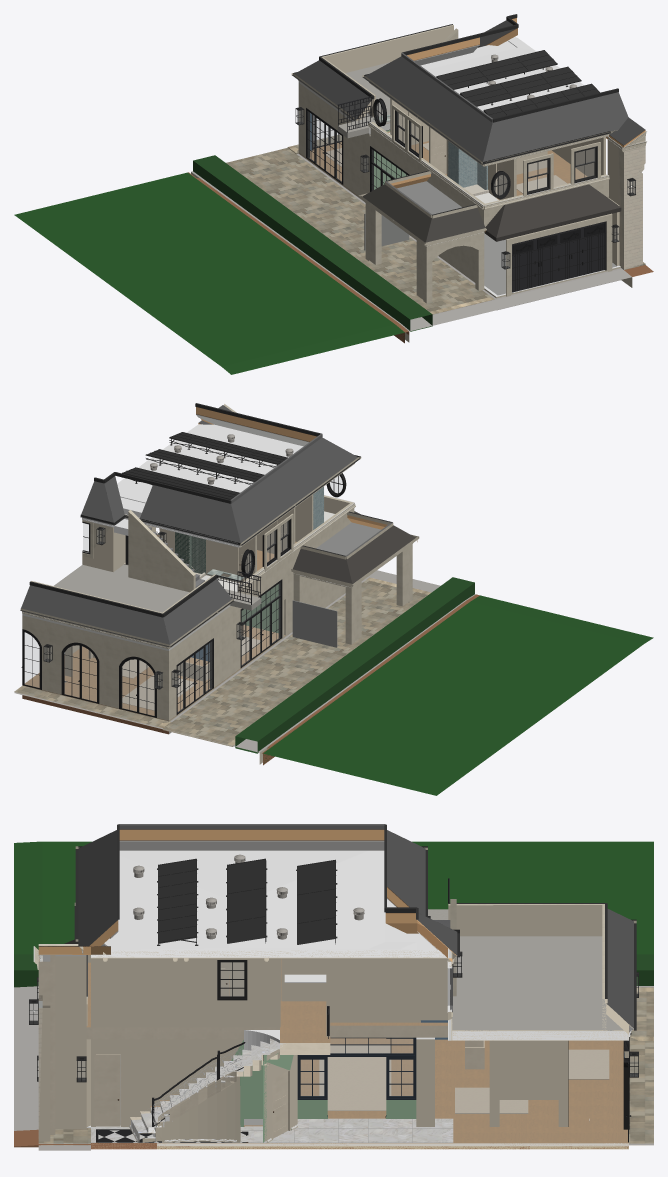
File: elevation-west-a539bdf70422.glb
3 views of the same model, one above another, from view 1: azimuth 30°, elevation 25°; view 2: azimuth 150°, elevation 25°; view 3: azimuth 270°, elevation 25° (orthographic). The views are drawn at different scales.
Visible parts, largest first — view 1: elevation-west-aee2d046b0172b1e, elevation-west-27d577fbd7f2ff4b, elevation-west-2d4e160723097ac3, elevation-west-25c3ff3929e46046, elevation-west-0cae3eb2f2d52fad, elevation-west-2f311b438f02a7c5, elevation-west-a9e726e5451ff895, elevation-west-8ae50a6395ceb8a4, elevation-west-039192b0560cfac3, elevation-west-32021a86c784f0e0, elevation-west-0b9d5d1cd0b2c60f, elevation-west-7cf8e5cfa8b264af (+29 smaller); view 2: elevation-west-aee2d046b0172b1e, elevation-west-27d577fbd7f2ff4b, elevation-west-2d4e160723097ac3, elevation-west-969b861f9850351e, elevation-west-0cae3eb2f2d52fad, elevation-west-d56ee2a9d54b1fc2, elevation-west-5febae1537653d02, elevation-west-039192b0560cfac3, elevation-west-ded88bd99590d377, elevation-west-7511cdbc362aca5e, elevation-west-3b0077416469e01b, elevation-west-08d72923bcfd3529 (+29 smaller); view 3: elevation-west-aee2d046b0172b1e, elevation-west-d56ee2a9d54b1fc2, elevation-west-ded88bd99590d377, elevation-west-3b0077416469e01b, elevation-west-746250f96522f643, elevation-west-85f0fd939e0fcc78, elevation-west-7f59123d155b94ce, elevation-west-5e296beffb47d853, elevation-west-ed40dd465e6d599f, elevation-west-2575515a05775d9e, elevation-west-18b8f93424e26a44, elevation-west-871e2e831c6190fa (+51 smaller).
Part boxes in pixels (x1,y1,x2,y2): elevation-west-aee2d046b0172b1e: (14,172,653,374); elevation-west-27d577fbd7f2ff4b: (226,148,494,314); elevation-west-2d4e160723097ac3: (193,155,432,331); elevation-west-25c3ff3929e46046: (483,92,628,161); elevation-west-0cae3eb2f2d52fad: (365,56,492,161); elevation-west-2f311b438f02a7c5: (512,221,606,292); elevation-west-a9e726e5451ff895: (496,184,621,241); elevation-west-8ae50a6395ceb8a4: (191,153,632,342); elevation-west-039192b0560cfac3: (298,83,370,195); elevation-west-32021a86c784f0e0: (322,25,453,72); elevation-west-0b9d5d1cd0b2c60f: (460,66,581,106); elevation-west-7cf8e5cfa8b264af: (436,50,557,89); elevation-west-aee2d046b0172b1e: (22,594,653,795); elevation-west-27d577fbd7f2ff4b: (163,577,431,746); elevation-west-2d4e160723097ac3: (235,577,474,753); elevation-west-969b861f9850351e: (22,616,165,719); elevation-west-0cae3eb2f2d52fad: (231,437,357,542); elevation-west-d56ee2a9d54b1fc2: (117,424,303,503); elevation-west-5febae1537653d02: (21,585,169,644); elevation-west-039192b0560cfac3: (166,606,240,720); elevation-west-ded88bd99590d377: (54,564,239,612); elevation-west-7511cdbc362aca5e: (128,510,195,592); elevation-west-3b0077416469e01b: (22,636,273,721); elevation-west-08d72923bcfd3529: (240,579,282,667); elevation-west-aee2d046b0172b1e: (14,841,653,1149); elevation-west-d56ee2a9d54b1fc2: (104,850,417,949); elevation-west-ded88bd99590d377: (452,936,623,1030); elevation-west-3b0077416469e01b: (157,1038,628,1143); elevation-west-746250f96522f643: (91,958,280,1027); elevation-west-85f0fd939e0fcc78: (91,1039,243,1126); elevation-west-7f59123d155b94ce: (330,958,420,1022); elevation-west-5e296beffb47d853: (55,955,86,1129); elevation-west-ed40dd465e6d599f: (489,1040,567,1126); elevation-west-2575515a05775d9e: (86,958,330,1054); elevation-west-18b8f93424e26a44: (448,904,604,936); elevation-west-871e2e831c6190fa: (319,1045,391,1110).
Size of the model in its own units: 22.2 by 8.45 by 19.78.
70 materials, 19 textured.
